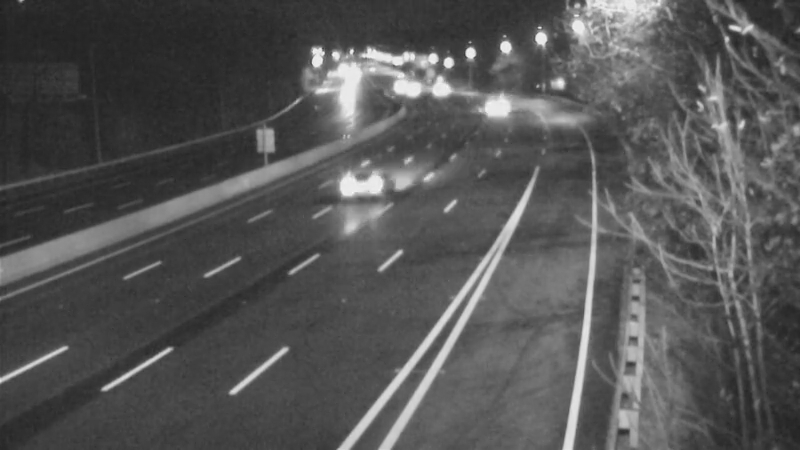vehicle: (324, 137, 404, 217), (374, 64, 424, 114), (410, 62, 460, 112), (385, 66, 435, 116), (470, 83, 520, 133), (318, 74, 368, 124)
